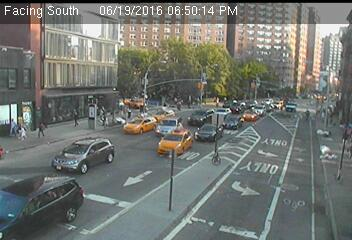neg: (94, 146, 114, 173), (126, 174, 144, 198), (70, 188, 88, 211), (48, 186, 65, 209), (153, 39, 169, 61), (312, 142, 328, 164), (318, 72, 334, 94), (261, 145, 277, 166), (176, 198, 192, 219), (42, 64, 57, 84), (212, 151, 227, 171), (85, 51, 99, 71), (164, 112, 178, 131), (245, 44, 259, 63), (249, 85, 263, 103), (279, 43, 293, 61), (196, 47, 209, 64), (65, 64, 78, 81), (278, 178, 291, 195), (229, 102, 241, 118), (219, 51, 231, 67), (107, 46, 119, 62), (287, 83, 299, 99), (158, 166, 169, 182), (206, 124, 217, 139), (224, 188, 235, 203)
pos: (69, 105, 85, 127), (36, 119, 48, 136)
